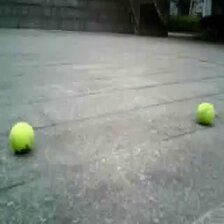tennis: (11, 123, 32, 151), (198, 103, 215, 125)
